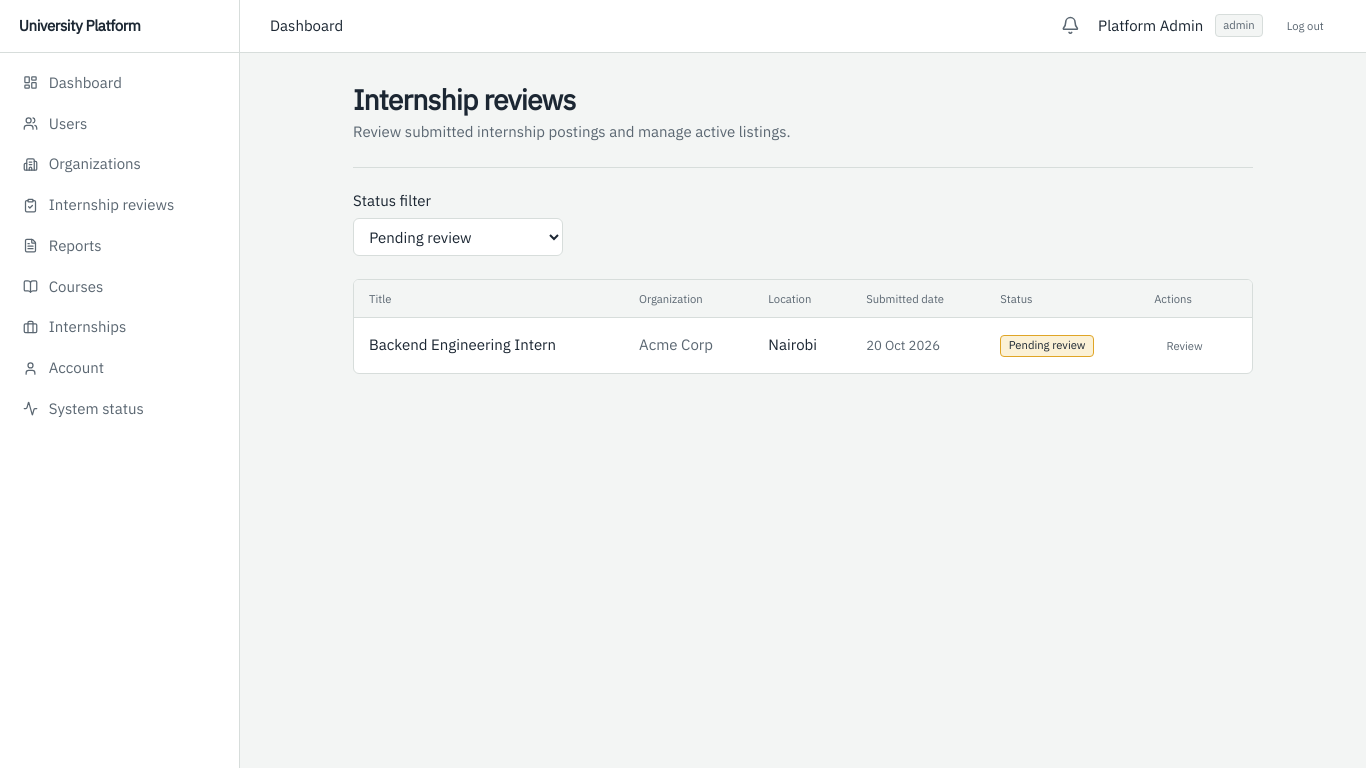
Test: AdminInternshipReviewsPage › opens review modal when clicking Review button
Click the button "Review". click: (1184, 345)
box: [1154, 331, 1215, 359]
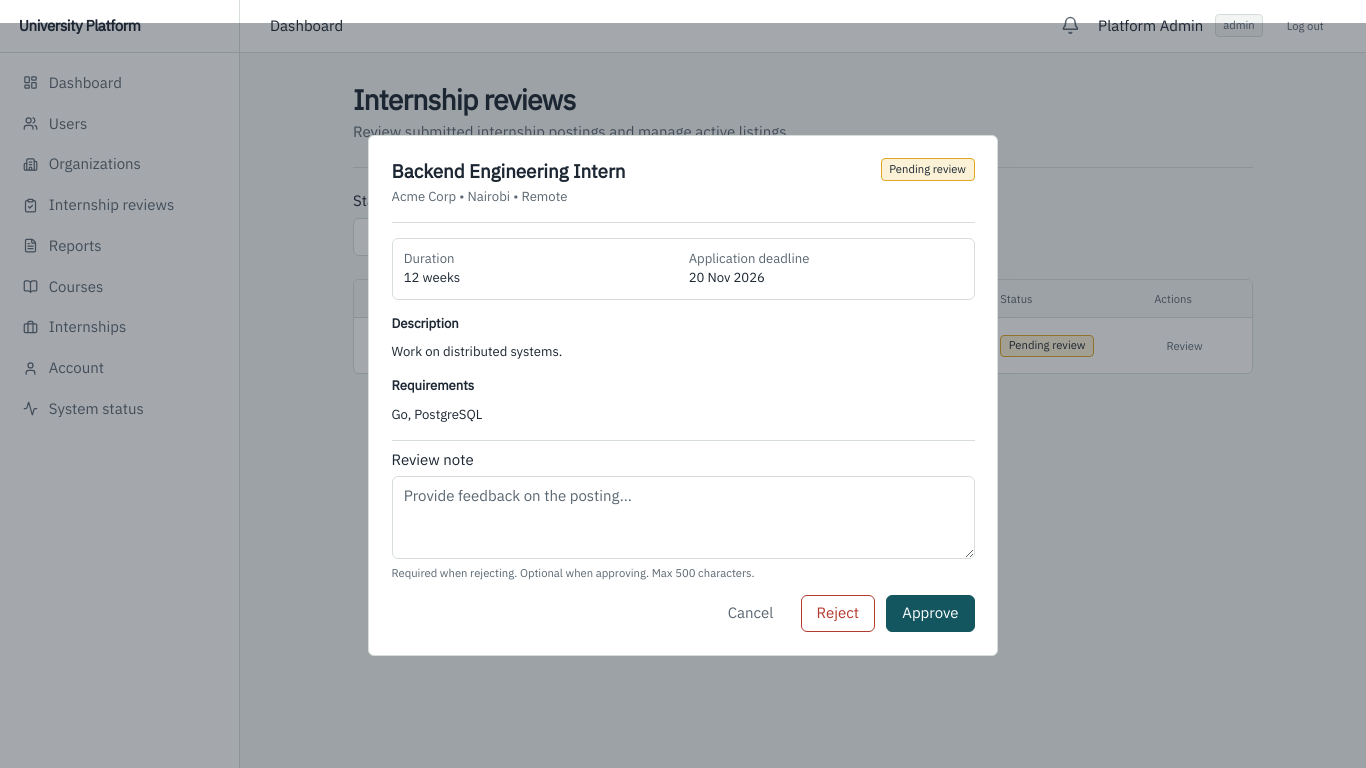
Now the dialog is shown
Now the button "Approve" is shown, box [886, 595, 974, 632]
Now the button "Reject" is shown, box [801, 595, 875, 632]
